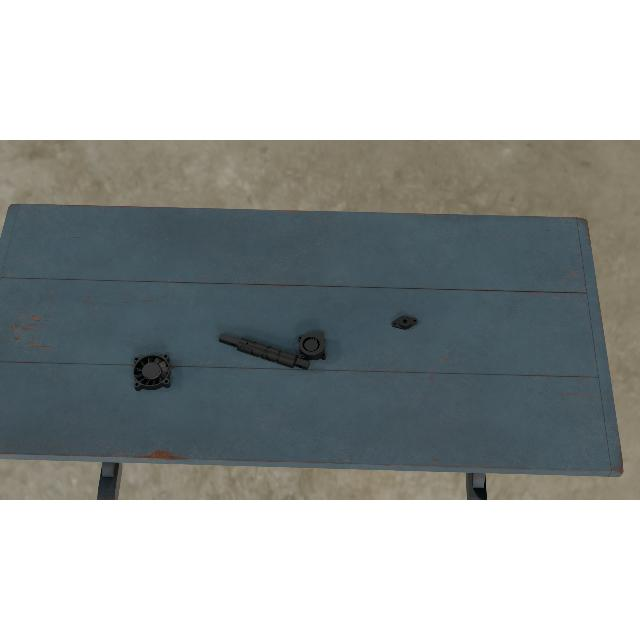Pieza1: (217, 328, 311, 376)
Pieza2: (390, 313, 420, 331)
Pieza3: (298, 333, 326, 363)
Pieza4: (133, 353, 171, 392)
